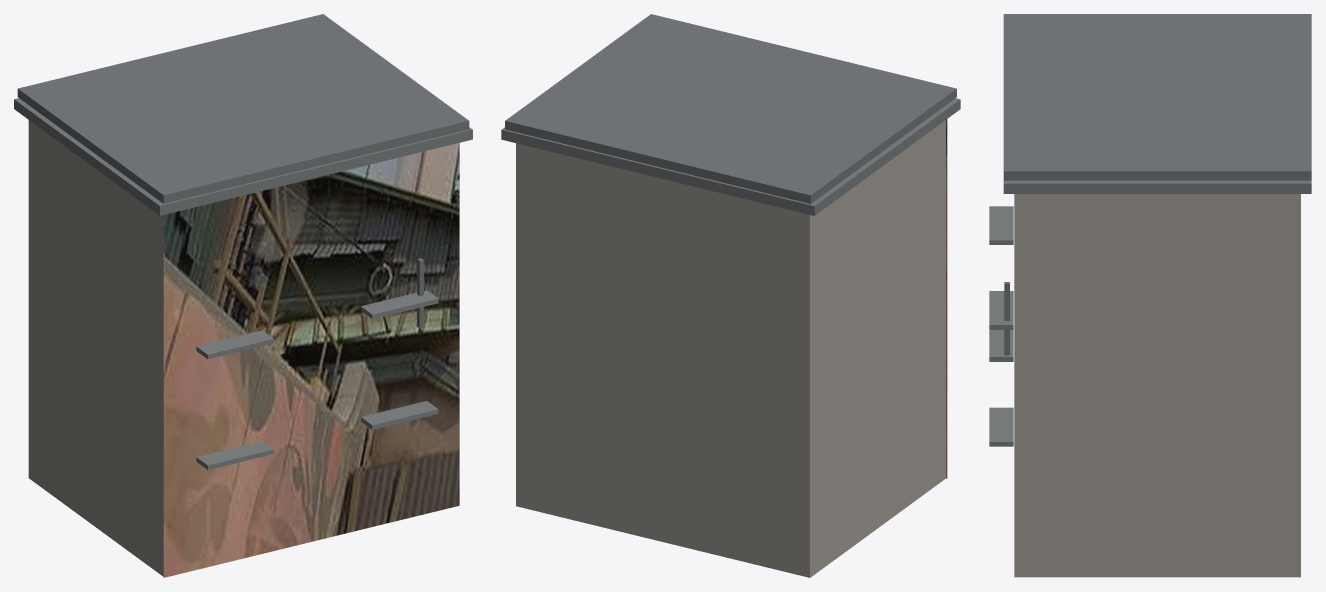
File: industrial_corner.glb
3 views of the same model, side by side, from view 1: azimuth 30°, elevation 25°; view 2: azimuth 150°, elevation 25°; view 3: azimuth 270°, elevation 25° (orthographic). The views are drawn at different scales.
Parts seen in each view (by area): view 1: photographic_facade, shell, metal_roof, roof_parapet, ledge_2_-2.8, ledge_1_-2.8, ledge_1_2.8, ledge_2_2.8; view 2: shell, metal_roof, roof_parapet, photographic_facade; view 3: shell, metal_roof, roof_parapet, ledge_1_2.8, ledge_2_-2.8, ledge_2_2.8, ledge_1_-2.8.
Boxes of the visible parts, <box> form: photographic_facade: <box>163,143,459,577</box>; shell: <box>28,120,163,576</box>; metal_roof: <box>17,14,469,203</box>; roof_parapet: <box>14,98,472,215</box>; ledge_2_-2.8: <box>196,330,273,359</box>; ledge_1_-2.8: <box>196,441,273,469</box>; ledge_1_2.8: <box>361,401,438,429</box>; ledge_2_2.8: <box>361,290,438,319</box>; shell: <box>516,120,945,577</box>; metal_roof: <box>505,14,956,203</box>; roof_parapet: <box>501,98,960,215</box>; photographic_facade: <box>946,119,947,478</box>; shell: <box>1014,194,1300,577</box>; metal_roof: <box>1003,14,1311,180</box>; roof_parapet: <box>1003,180,1311,193</box>; ledge_1_2.8: <box>989,407,1013,446</box>; ledge_2_-2.8: <box>989,206,1013,244</box>; ledge_2_2.8: <box>989,291,1013,329</box>; ledge_1_-2.8: <box>989,330,1013,361</box>.
Bounding box in the file's own units: 10.65 × 12.6 × 9.
Materials: 1 (1 with a texture image).
